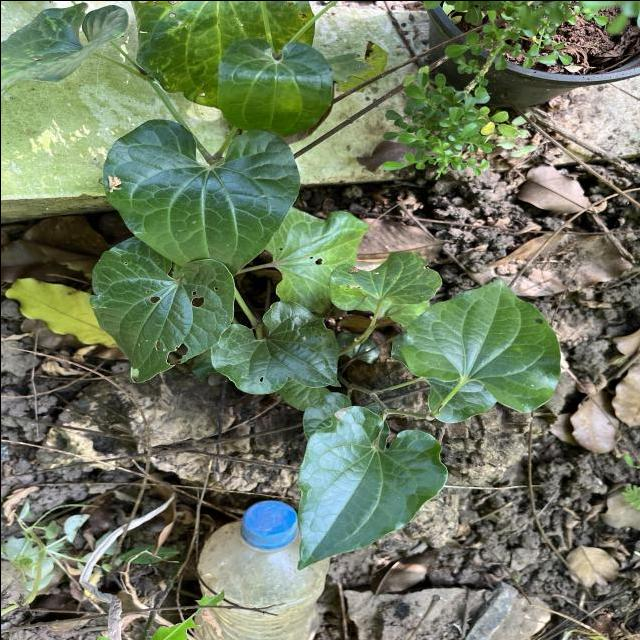Piper longum: (100, 116, 302, 277)
